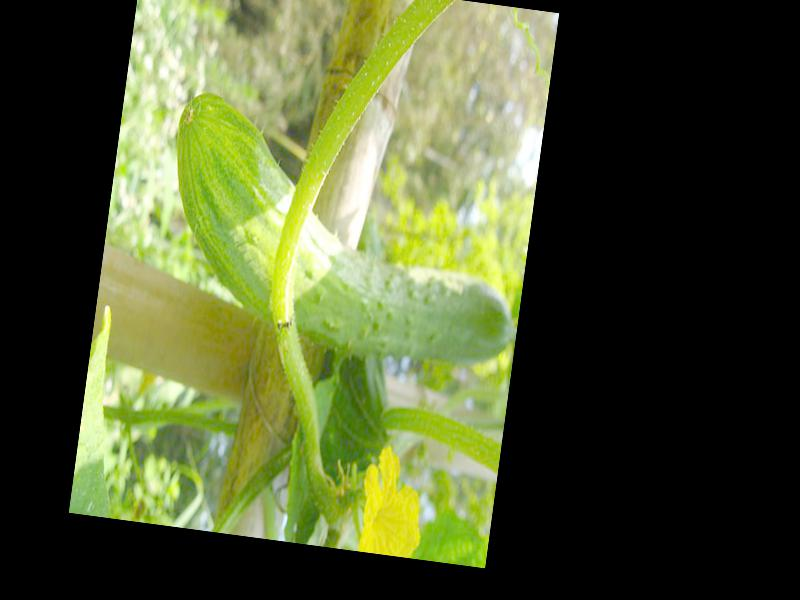Cucumber: (151, 92, 539, 372)
